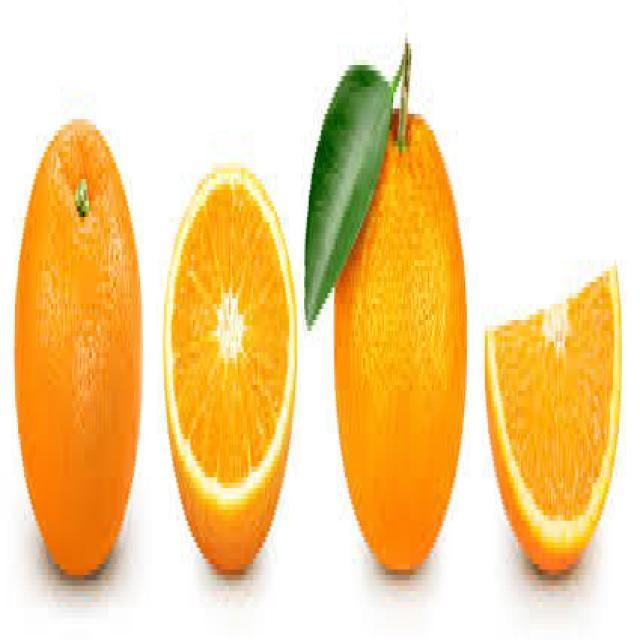non-mango: (302, 32, 477, 621), (4, 50, 152, 595), (156, 120, 299, 589), (480, 170, 629, 618)
